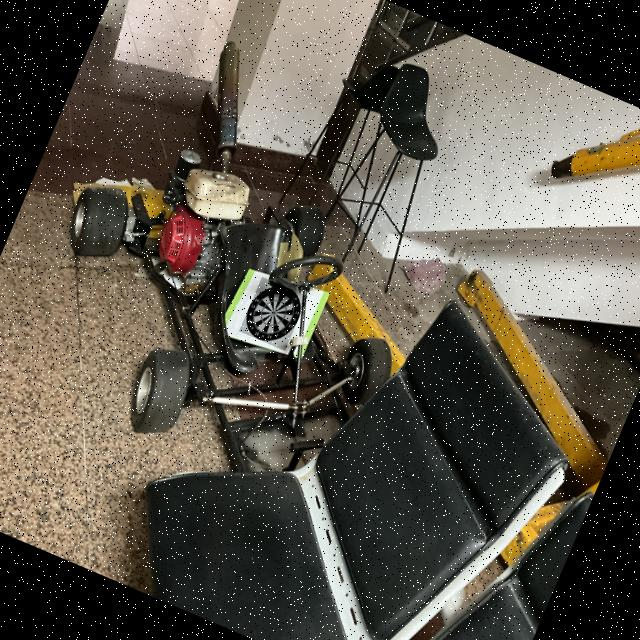archery-targets: (238, 276, 308, 351)
